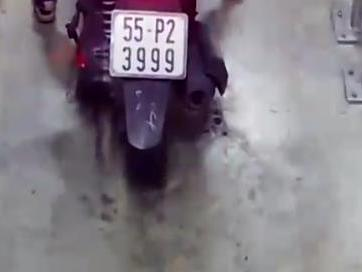num_plate: (110, 9, 188, 78)
